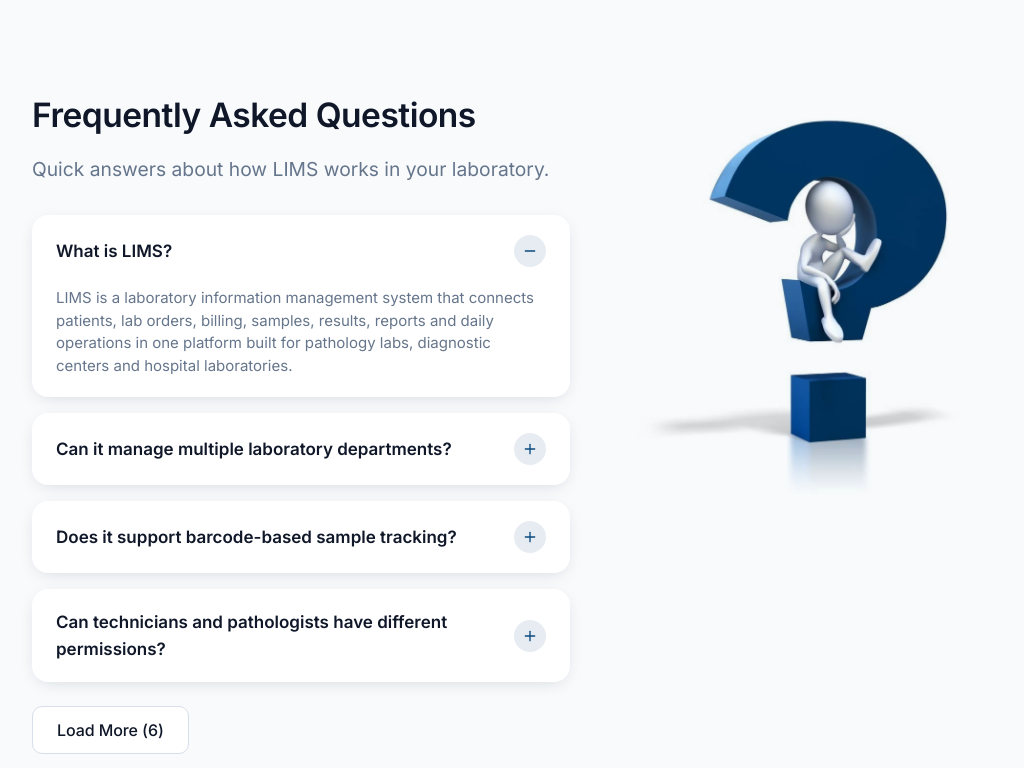
Scenario: Faq › keeps the accordion working: first answer open, clicking another switches
Click the button "Does it support barcode-based sample tracking?".
click(301, 537)  # box [32,501,570,573]
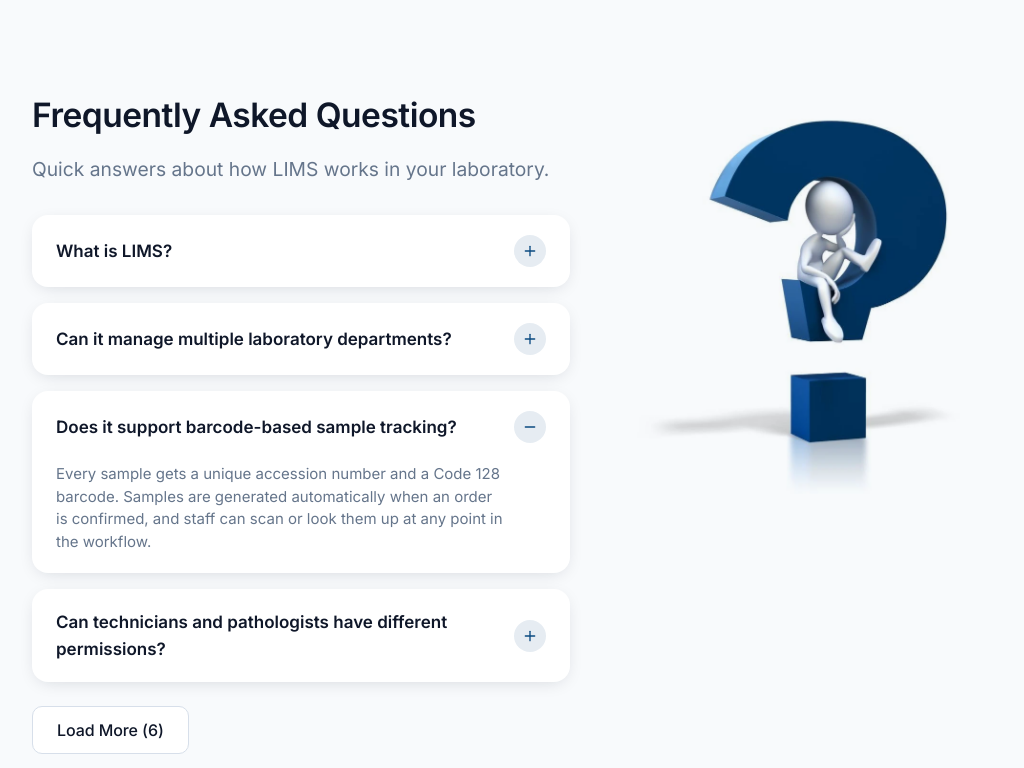
Check: the button "Does it support barcode-based sample tracking?" is expanded, box [32,391,570,463]
